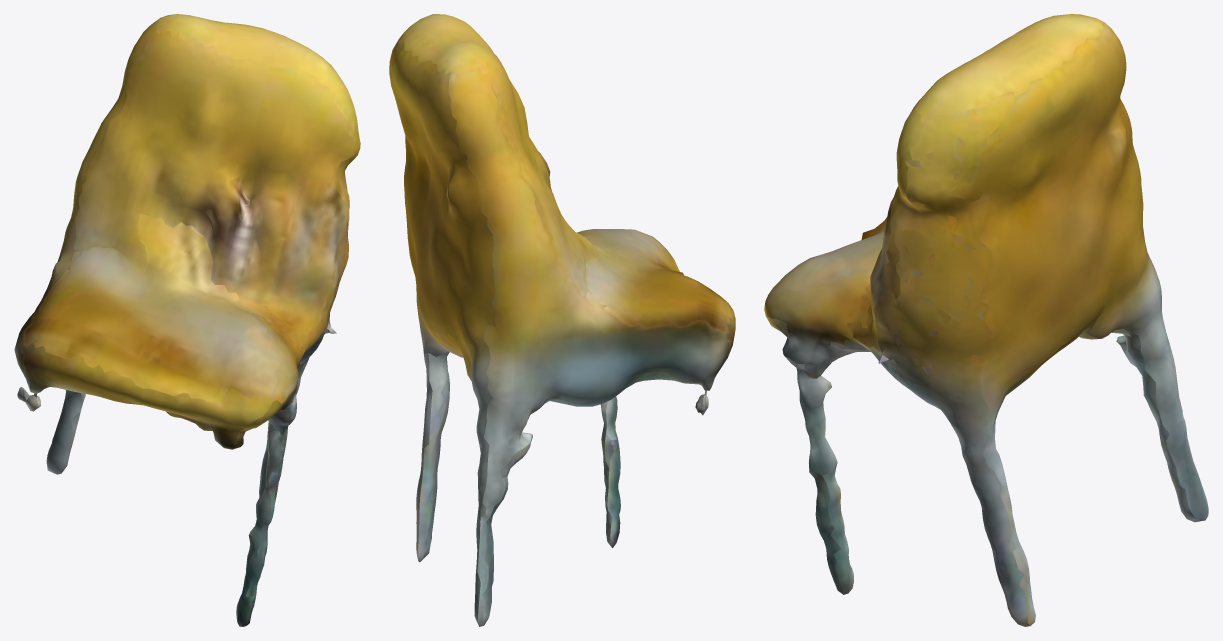
Rendered from 23_chair.glb.
3 renders of one model, left to right at view 1: azimuth 30°, elevation 25°; view 2: azimuth 150°, elevation 25°; view 3: azimuth 270°, elevation 25°, orthographic. The views are drawn at different scales.
Visible parts, largest first — view 1: 23_chair; view 2: 23_chair; view 3: 23_chair.
Part boxes in pixels (x1=…): 23_chair: x1=14, y1=14, x2=360, y2=626; 23_chair: x1=389, y1=14, x2=735, y2=626; 23_chair: x1=764, y1=14, x2=1208, y2=626.
Bounding box in the file's own units: 0.664 × 1.06 × 0.7111.
Materials: 1 (1 with a texture image).
